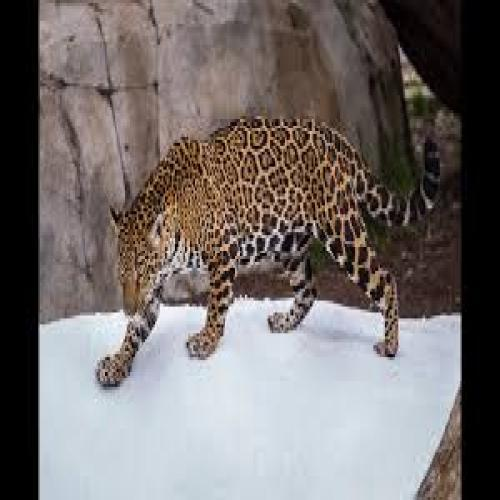jaguar_not-endangered: (94, 114, 443, 390)
